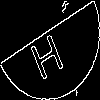H: (25, 25, 66, 82)
